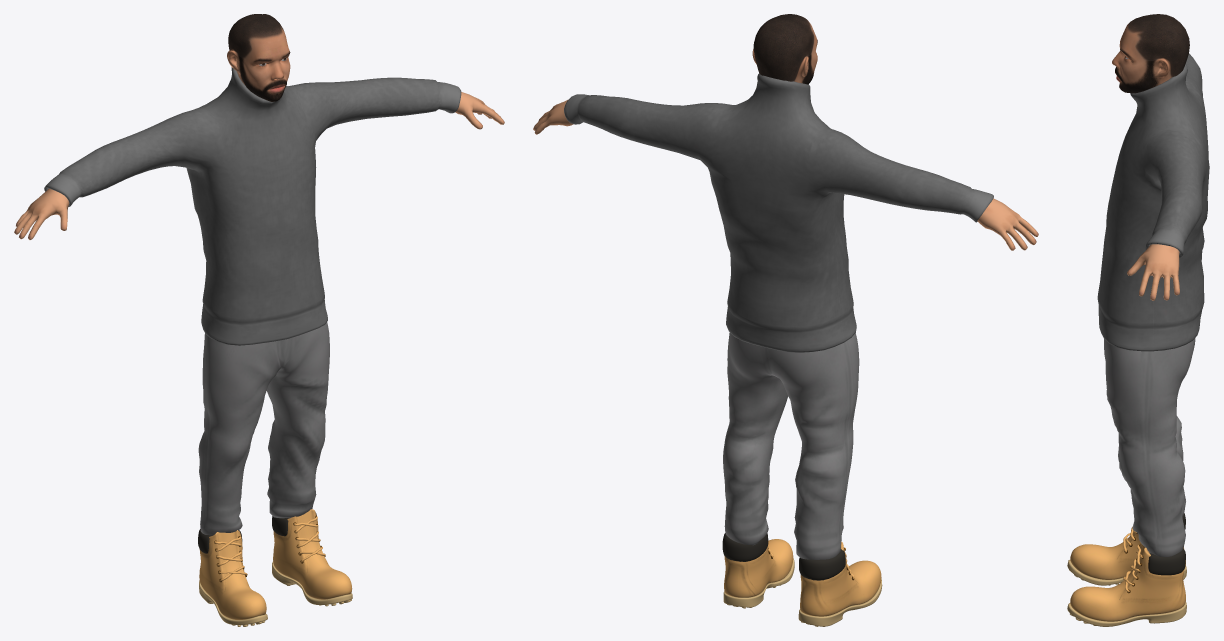
Rendered from Drake_FBX.fbx.
3 renders of one model, left to right at view 1: azimuth 30°, elevation 25°; view 2: azimuth 150°, elevation 25°; view 3: azimuth 270°, elevation 25°, orthographic. The views are drawn at different scales.
Visible parts, largest first — view 1: Drake_body_texturing11_01, Drake_body_texturing10, polysurface15_01_copy2_1, Drake_body_Resculpt1, male_base_1, polySurface16_02, polySurface15_05; view 2: Drake_body_texturing11_01, Drake_body_texturing10, polysurface15_01_copy2_1, Drake_body_Resculpt1, male_base_1, Extract2_2, polySurface16_02; view 3: Drake_body_texturing11_01, Drake_body_texturing10, polysurface15_01_copy2_1, Drake_body_Resculpt1, male_base_1, polySurface16_02, Extract2_2, polySurface15_05.
Boxes of the visible parts, box(x1,y1,x2,y2) form: Drake_body_texturing11_01: box(44, 67, 461, 345); Drake_body_texturing10: box(198, 322, 329, 535); polysurface15_01_copy2_1: box(199, 509, 352, 619); Drake_body_Resculpt1: box(227, 14, 290, 101); male_base_1: box(14, 92, 504, 239); polySurface16_02: box(199, 561, 352, 625); polySurface15_05: box(214, 516, 325, 581); Drake_body_texturing11_01: box(564, 74, 993, 352); Drake_body_texturing10: box(723, 332, 859, 559); polysurface15_01_copy2_1: box(724, 539, 881, 616); Drake_body_Resculpt1: box(752, 14, 817, 84); male_base_1: box(533, 100, 1038, 250); Extract2_2: box(722, 533, 845, 580); polySurface16_02: box(723, 558, 882, 626); Drake_body_texturing11_01: box(1097, 53, 1209, 351); Drake_body_texturing10: box(1104, 338, 1195, 556); polysurface15_01_copy2_1: box(1070, 532, 1185, 621); Drake_body_Resculpt1: box(1112, 14, 1189, 93); male_base_1: box(1127, 244, 1179, 300); polySurface16_02: box(1067, 560, 1186, 626); Extract2_2: box(1148, 513, 1185, 575); polySurface15_05: box(1123, 527, 1142, 592).
Size of the model in its own units: 167 by 189 by 41.97.
